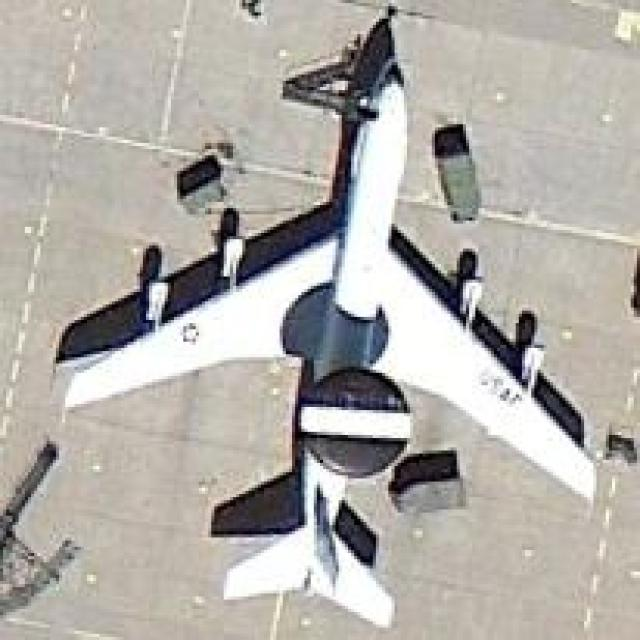E-3_TopDown: (50, 3, 600, 631)
